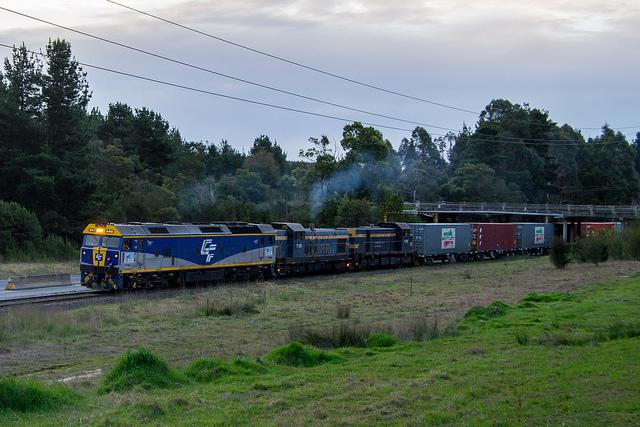Train: (72, 217, 633, 297)
